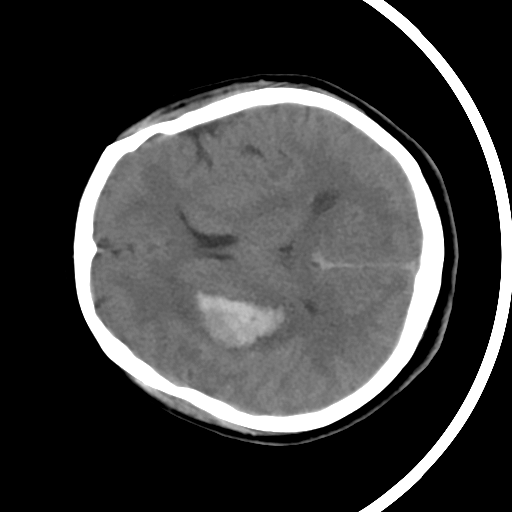a: (146, 259, 320, 370)
